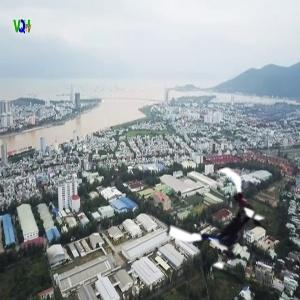drone: (171, 166, 275, 270)
